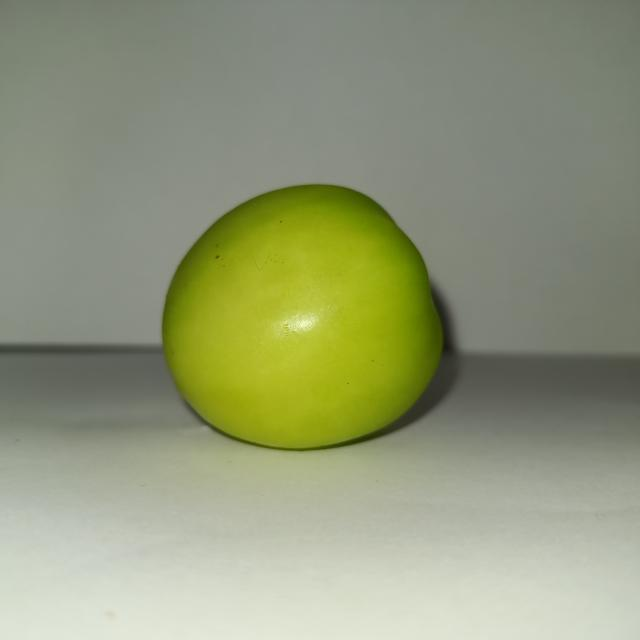Red: (160, 181, 445, 451)
